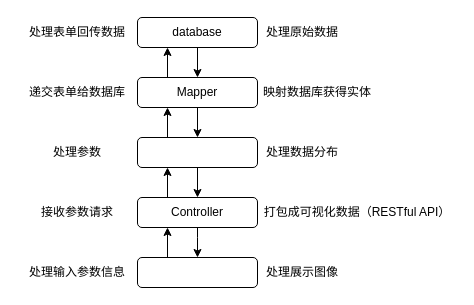
The diagram is 474 pixels wide and 305 high, and some of its shapes have lost their labels. The centre of each missing label's shape, as x and y in pixels:
"Service" goes at pixel 197 152.
"Vue 前端" goes at pixel 197 272.
